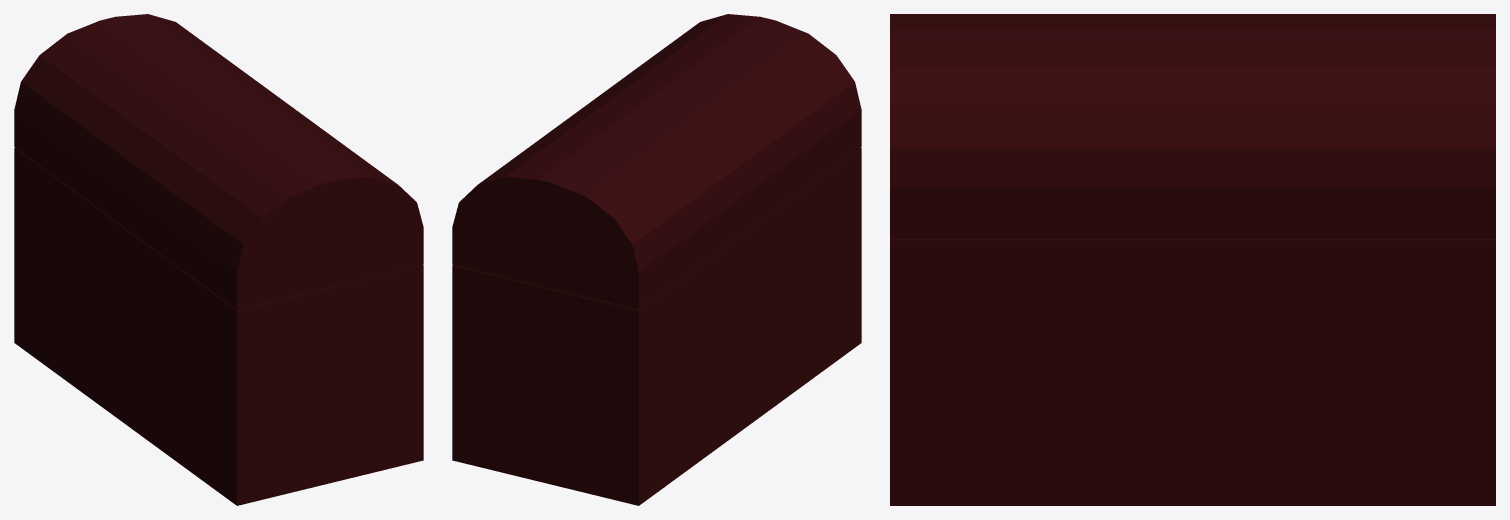
Rendered from SM_Chest_01.fbx.
The picture shows the model from 3 angles, left to right: view 1: azimuth 30°, elevation 25°; view 2: azimuth 150°, elevation 25°; view 3: azimuth 270°, elevation 25°; orthographic projection. The views are drawn at different scales.
Visible parts, largest first — view 1: Chest, Cover; view 2: Chest, Cover; view 3: Chest, Cover.
Boxes of the visible parts, x1,y1,x2,y2 form: Chest: (14, 148, 423, 505); Cover: (14, 14, 423, 309); Chest: (452, 148, 861, 505); Cover: (452, 14, 861, 309); Chest: (890, 239, 1495, 505); Cover: (890, 14, 1495, 239).
Size of the model in its own units: 200 by 309 by 414.
